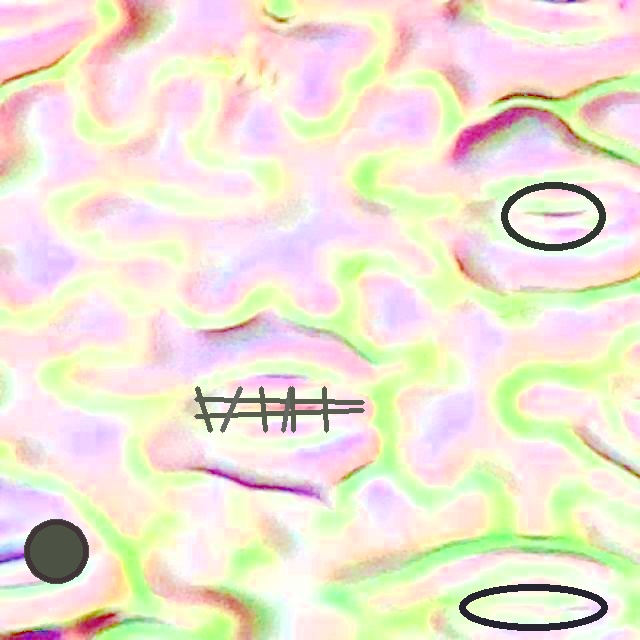close: (458, 584, 608, 631)
open: (195, 387, 363, 432), (501, 182, 605, 249), (25, 519, 88, 583)
